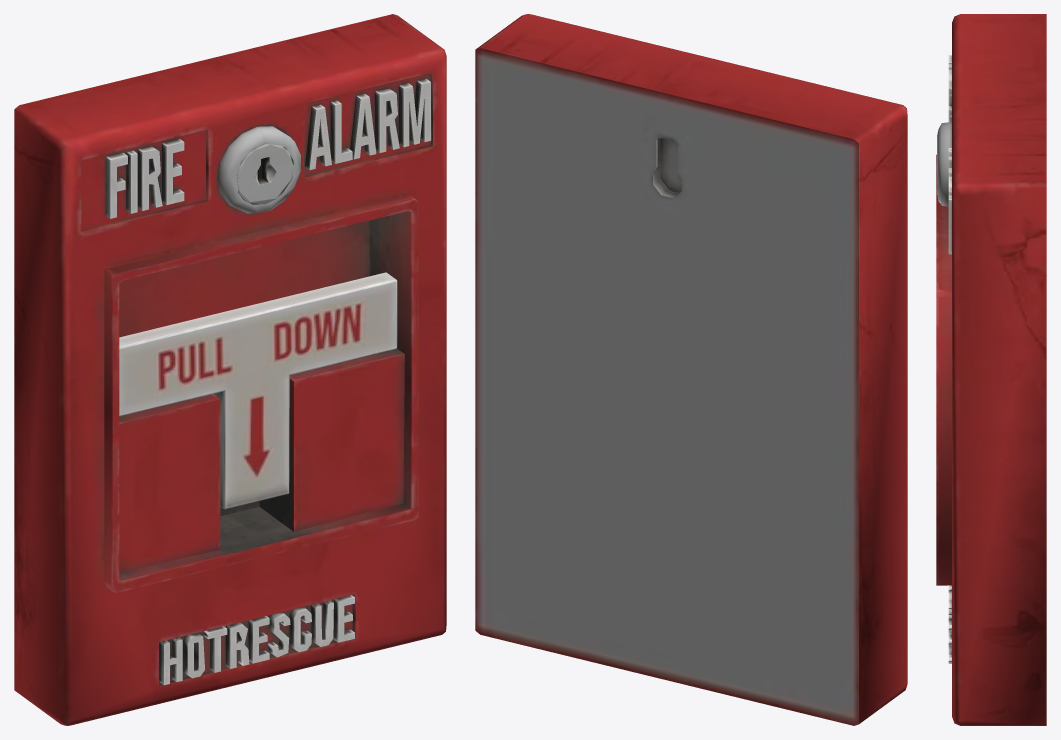
Rendered from fire_alarm.glb.
3 renders of one model, left to right at view 1: azimuth 30°, elevation 25°; view 2: azimuth 150°, elevation 25°; view 3: azimuth 270°, elevation 25°, orthographic. The views are drawn at different scales.
Visible parts, largest first — view 1: fire_alarm; view 2: fire_alarm; view 3: fire_alarm.
Part boxes in pixels (bbox=[...]): fire_alarm: bbox=[14, 14, 446, 725]; fire_alarm: bbox=[475, 14, 907, 725]; fire_alarm: bbox=[936, 14, 1046, 725].
Bounding box in the file's own units: 0.0994 × 0.1436 × 0.0264.
1 material, 1 textured.
